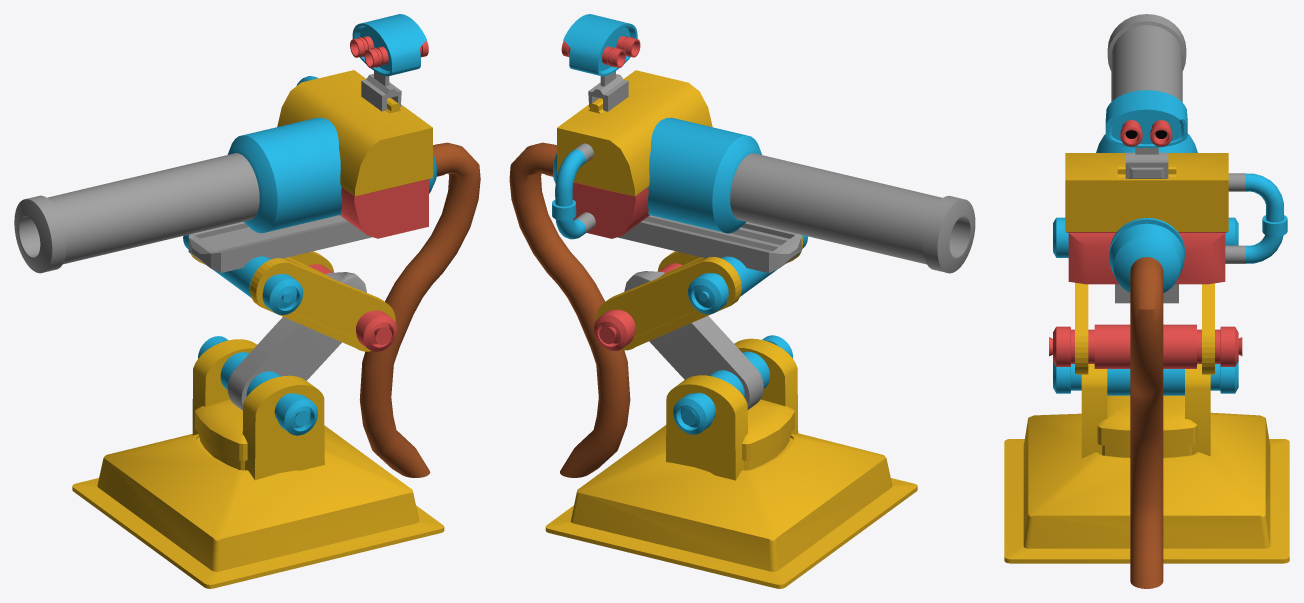
Rendered from GrabTurret1.fbx.
3 views of the same model, side by side, from view 1: azimuth 30°, elevation 25°; view 2: azimuth 150°, elevation 25°; view 3: azimuth 270°, elevation 25° (orthographic). The views are drawn at different scales.
Parts seen in each view (by area): view 1: Cube, Cylinder.015, Cylinder.014, Cube.005, Cylinder.009, Cylinder.001, Cube.001, Cylinder.006, Cylinder.003, Cube.002, Cylinder.010, Cube.004 (+5 smaller); view 2: Cube, Cylinder.015, Cylinder.014, Cube.005, Cylinder.009, Cylinder, Cube.001, Cylinder.005, Cylinder.003, Cube.002, Cylinder.010, Cube.004 (+6 smaller); view 3: Cube, Cube.005, Cylinder.014, Cylinder.015, Cylinder.004, Cube.002, Cylinder.009, Cube.004, Cylinder.010, Cylinder.002, Cylinder.011, Cylinder.001 (+9 smaller).
Boxes of the visible parts, x1,y1,x2,y2 form: Cube: (72,426,444,588); Cylinder.015: (14,153,259,273); Cylinder.014: (359,142,480,477); Cube.005: (277,70,432,196); Cylinder.009: (227,117,436,233); Cylinder.001: (242,375,324,480); Cube.001: (188,215,372,272); Cylinder.006: (250,258,395,351); Cylinder.003: (227,272,366,410); Cube.002: (340,178,431,238); Cylinder.010: (352,14,427,76); Cube.004: (195,399,247,470); Cube: (545,425,917,588); Cylinder.015: (730,153,975,273); Cylinder.014: (509,142,630,477); Cube.005: (557,70,712,196); Cylinder.009: (553,117,761,233); Cylinder: (666,375,747,480); Cube.001: (617,215,801,273); Cylinder.005: (596,257,741,350); Cylinder.003: (624,271,763,409); Cube.002: (572,182,649,238); Cylinder.010: (563,14,637,76); Cube.004: (742,399,794,470); Cube: (1004,412,1289,563); Cube.005: (1065,153,1228,231); Cylinder.014: (1130,257,1163,588); Cylinder.015: (1107,14,1186,102); Cylinder.004: (1049,324,1242,368); Cube.002: (1066,232,1227,284); Cylinder.009: (1096,133,1197,292); Cube.004: (1097,395,1197,457); Cylinder.010: (1105,90,1187,147); Cylinder.002: (1053,361,1238,395); Cylinder.011: (1245,173,1287,263); Cylinder.001: (1081,364,1107,458).
Bounding box in the file's own units: 302 × 293 × 161.
